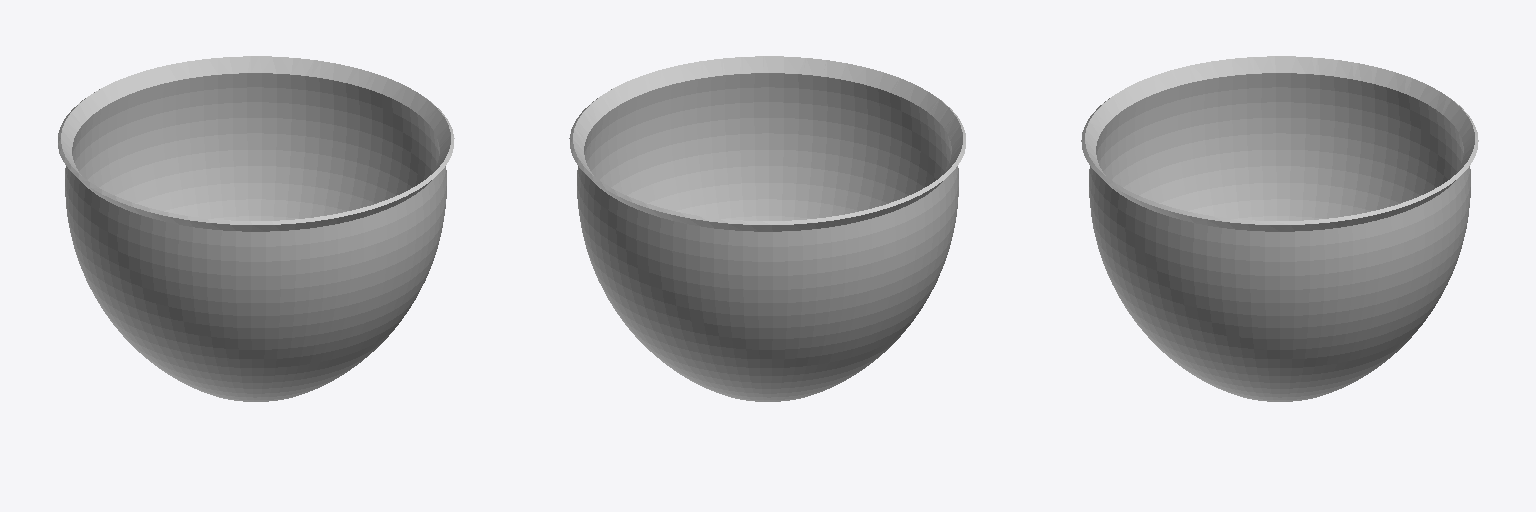
The model's file is flower pot.obj.
3 views of the same model, side by side, from view 1: azimuth 30°, elevation 25°; view 2: azimuth 150°, elevation 25°; view 3: azimuth 270°, elevation 25° (orthographic).
Parts seen in each view (by area): view 1: mesh 1 flower pot; view 2: mesh 1 flower pot; view 3: mesh 1 flower pot.
Part boxes in pixels (x1,y1,x2,y2): mesh 1 flower pot: (58, 56, 454, 401); mesh 1 flower pot: (569, 56, 965, 401); mesh 1 flower pot: (1081, 56, 1478, 401).
Size of the model in its own units: 0.2261 by 0.1475 by 0.2264.